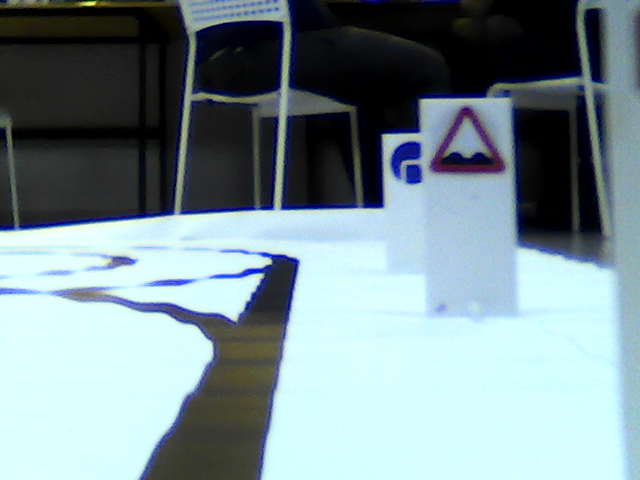Nerov: (429, 104, 508, 174)
Right: (390, 140, 423, 184)
